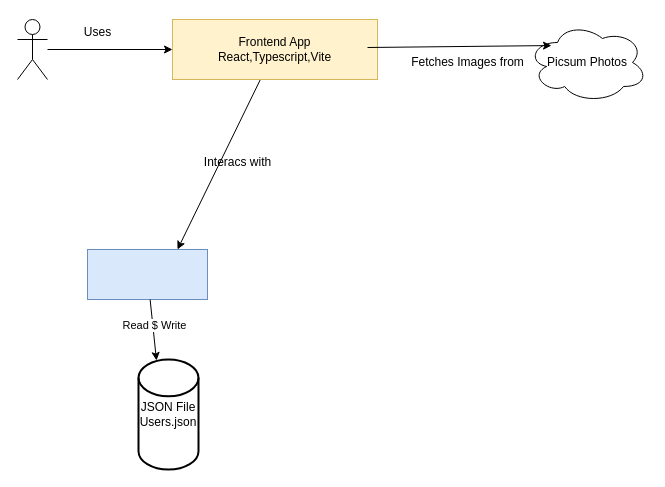
Some shapes in this 665 by 487 pixel diagram are drawn without their labels. Here are the shapes that lost their labels. From the top down, the box of each, then its label:
(16, 18, 48, 80): User
(86, 248, 208, 300): Backend API Node.js, Ekspress
